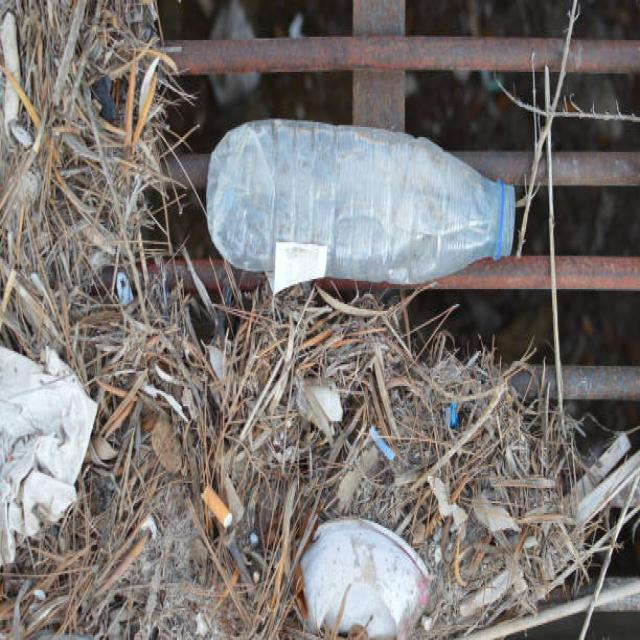plastic: (204, 115, 507, 281)
